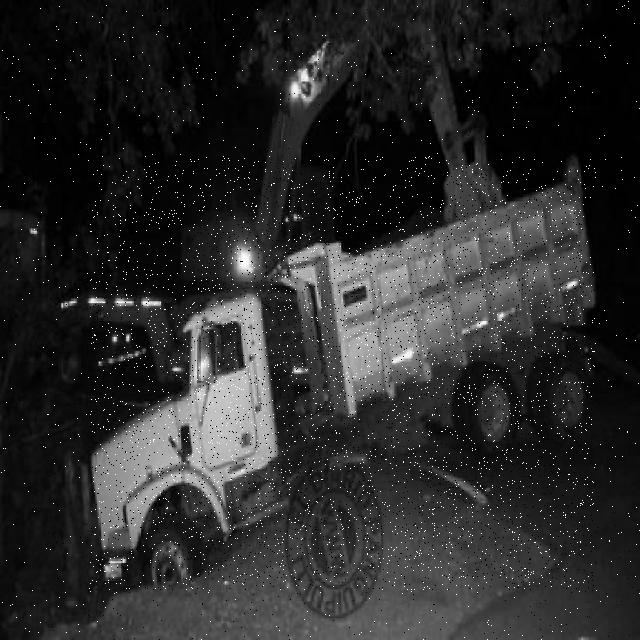Box Truck: (90, 156, 596, 590)
